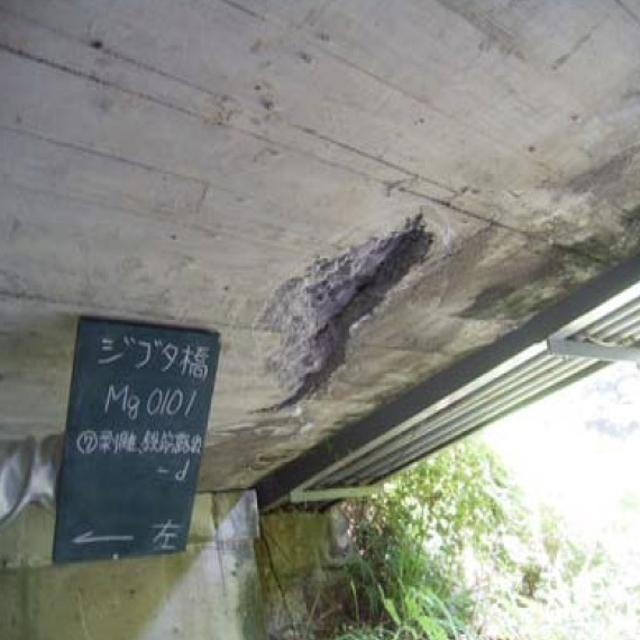spalling: (246, 181, 460, 410)
